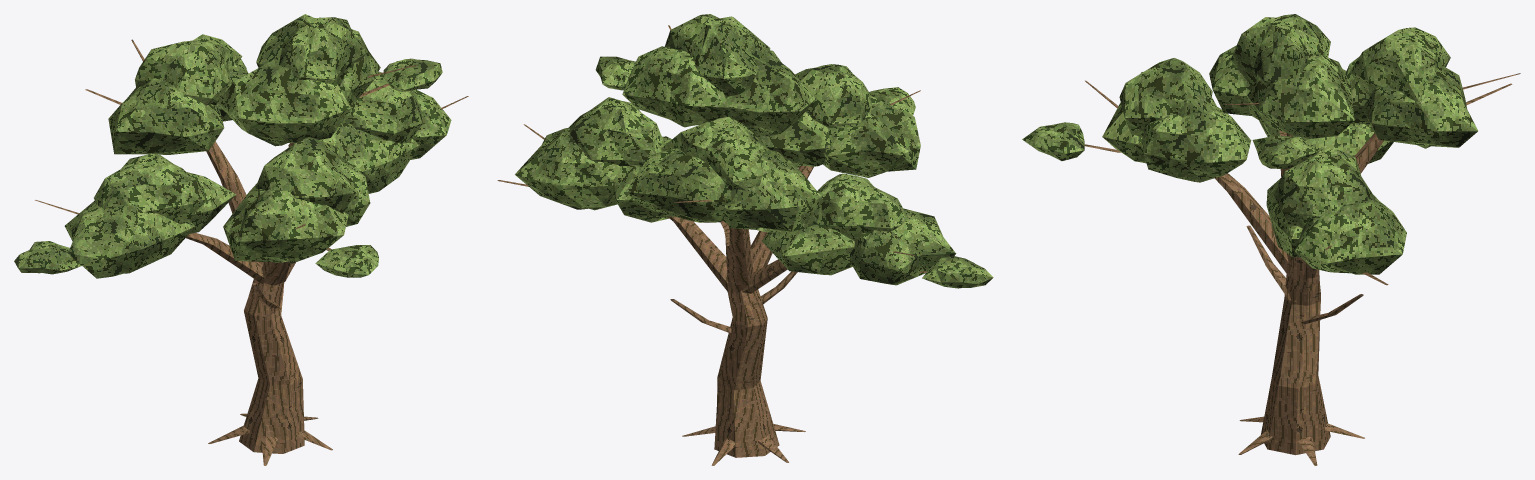
File: holm_arrival_oak_oldschool_v1.glb
3 renders of one model, left to right at view 1: azimuth 30°, elevation 25°; view 2: azimuth 150°, elevation 25°; view 3: azimuth 270°, elevation 25°, orthographic. The views are drawn at different scales.
Parts seen in each view (by area): view 1: Oak_AsymmetricCrown, Oak_BranchedTrunk; view 2: Oak_AsymmetricCrown, Oak_BranchedTrunk; view 3: Oak_AsymmetricCrown, Oak_BranchedTrunk.
Part boxes in pixels (x1,y1,x2,y2): Oak_AsymmetricCrown: (14,14,451,278); Oak_BranchedTrunk: (35,39,468,465); Oak_AsymmetricCrown: (515,14,993,288); Oak_BranchedTrunk: (497,25,926,465); Oak_AsymmetricCrown: (1022,14,1477,274); Oak_BranchedTrunk: (1084,73,1520,465).
Size of the model in its own units: 7.03 by 6.05 by 6.22.
2 materials, 2 textured.
